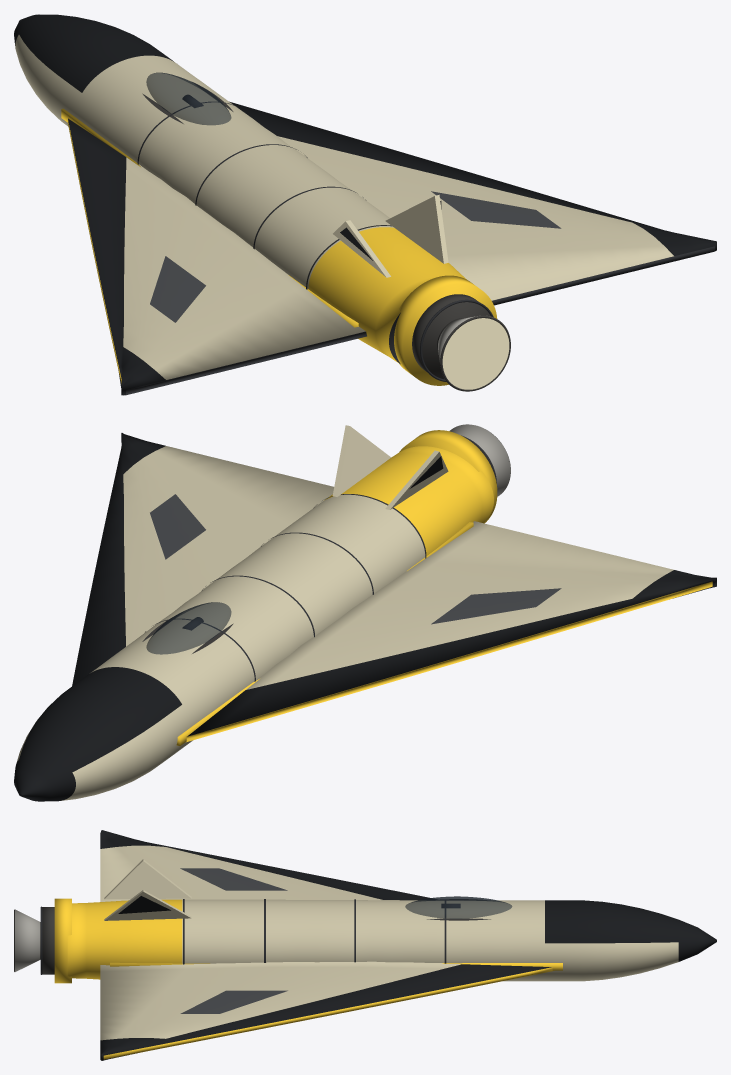
File: Ship_Longwing_8.glb
The picture shows the model from 3 angles, top to bottom: view 1: azimuth 30°, elevation 25°; view 2: azimuth 150°, elevation 25°; view 3: azimuth 270°, elevation 25°; orthographic projection. The views are drawn at different scales.
Parts seen in each view (by area): view 1: Fuselage_OrganicEllipsoidTaperedBody_BakedPaint, Wing_Left_LongDeltaAerofoil_BakedPaint, Wing_Right_LongDeltaAerofoil_BakedPaint, EngineEmitter, AftCollar_IntegratedSingleEngineBand, CanopyGlass_LowInsetDome, EngineBlock_AftDarkSingleEngineHousing, TailFin_Right_CantedStabilizer, TailFin_Left_CantedStabilizer, WingRoot_Left_EmbeddedShoulder; view 2: Fuselage_OrganicEllipsoidTaperedBody_BakedPaint, Wing_Left_LongDeltaAerofoil_BakedPaint, Wing_Right_LongDeltaAerofoil_BakedPaint, CanopyGlass_LowInsetDome, TailFin_Right_CantedStabilizer, AftCollar_IntegratedSingleEngineBand, EngineBell_Center_BroadBurnishedNozzle, TailFin_Left_CantedStabilizer, WingRoot_Left_EmbeddedShoulder; view 3: Fuselage_OrganicEllipsoidTaperedBody_BakedPaint, Wing_Right_LongDeltaAerofoil_BakedPaint, Wing_Left_LongDeltaAerofoil_BakedPaint, CanopyGlass_LowInsetDome, TailFin_Left_CantedStabilizer, AftCollar_IntegratedSingleEngineBand, EngineBell_Center_BroadBurnishedNozzle, TailFin_Right_CantedStabilizer, EngineBlock_AftDarkSingleEngineHousing, WingRoot_Right_EmbeddedShoulder, TailFin_Right_BakedTrimPatch.
Boxes of the visible parts, x1,y1,x2,y2 form: Fuselage_OrganicEllipsoidTaperedBody_BakedPaint: [14, 14, 466, 364]; Wing_Left_LongDeltaAerofoil_BakedPaint: [68, 118, 366, 395]; Wing_Right_LongDeltaAerofoil_BakedPaint: [229, 101, 716, 305]; EngineEmitter: [442, 318, 509, 389]; AftCollar_IntegratedSingleEngineBand: [394, 275, 497, 385]; CanopyGlass_LowInsetDome: [146, 72, 231, 125]; EngineBlock_AftDarkSingleEngineHousing: [412, 294, 490, 379]; TailFin_Right_CantedStabilizer: [385, 194, 448, 263]; TailFin_Left_CantedStabilizer: [333, 220, 390, 277]; WingRoot_Left_EmbeddedShoulder: [61, 108, 358, 327]; Fuselage_OrganicEllipsoidTaperedBody_BakedPaint: [14, 446, 493, 801]; Wing_Left_LongDeltaAerofoil_BakedPaint: [186, 521, 716, 742]; Wing_Right_LongDeltaAerofoil_BakedPaint: [72, 433, 333, 685]; CanopyGlass_LowInsetDome: [146, 602, 231, 654]; TailFin_Right_CantedStabilizer: [332, 425, 390, 496]; AftCollar_IntegratedSingleEngineBand: [399, 430, 497, 523]; EngineBell_Center_BroadBurnishedNozzle: [449, 424, 510, 496]; TailFin_Left_CantedStabilizer: [385, 450, 448, 509]; WingRoot_Left_EmbeddedShoulder: [176, 522, 473, 745]; Fuselage_OrganicEllipsoidTaperedBody_BakedPaint: [67, 899, 716, 981]; Wing_Right_LongDeltaAerofoil_BakedPaint: [100, 961, 554, 1060]; Wing_Left_LongDeltaAerofoil_BakedPaint: [100, 830, 434, 901]; CanopyGlass_LowInsetDome: [405, 896, 512, 918]; TailFin_Left_CantedStabilizer: [104, 859, 191, 899]; AftCollar_IntegratedSingleEngineBand: [54, 898, 71, 983]; EngineBell_Center_BroadBurnishedNozzle: [15, 909, 40, 971]; TailFin_Right_CantedStabilizer: [104, 890, 191, 920]; EngineBlock_AftDarkSingleEngineHousing: [42, 907, 54, 974]; WingRoot_Right_EmbeddedShoulder: [110, 962, 562, 970]; TailFin_Right_BakedTrimPatch: [118, 896, 170, 913].
Size of the model in its own units: 5.93 by 1.3 by 7.85.
